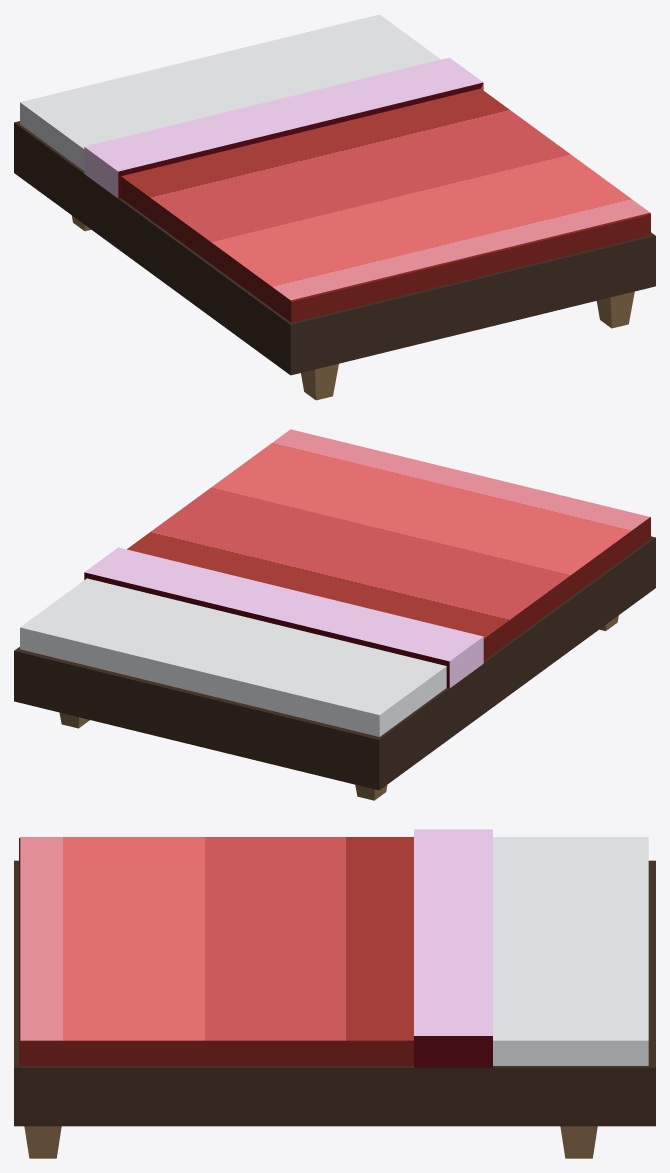
The model's file is Accesories_Bed_Large_B.012.glb.
3 renders of one model, top to bottom at view 1: azimuth 30°, elevation 25°; view 2: azimuth 150°, elevation 25°; view 3: azimuth 270°, elevation 25°, orthographic. The views are drawn at different scales.
Visible parts, largest first — view 1: Accesories_Bed_Large_B.012; view 2: Accesories_Bed_Large_B.012; view 3: Accesories_Bed_Large_B.012.
Part boxes in pixels (box(x1,y1,x2,y2)): Accesories_Bed_Large_B.012: box(14, 14, 655, 400); Accesories_Bed_Large_B.012: box(14, 429, 655, 800); Accesories_Bed_Large_B.012: box(14, 829, 655, 1158).
Bounding box in the file's own units: 1.6 × 0.4852 × 2.1.
1 material, 1 textured.
